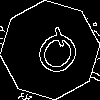Q: (25, 25, 86, 87)
